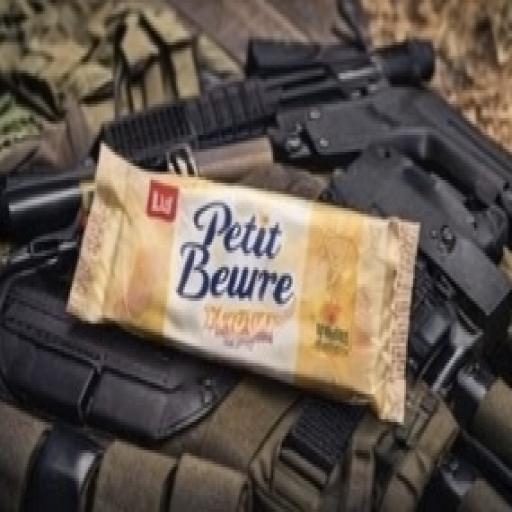petit-beurre: (53, 105, 441, 458)
